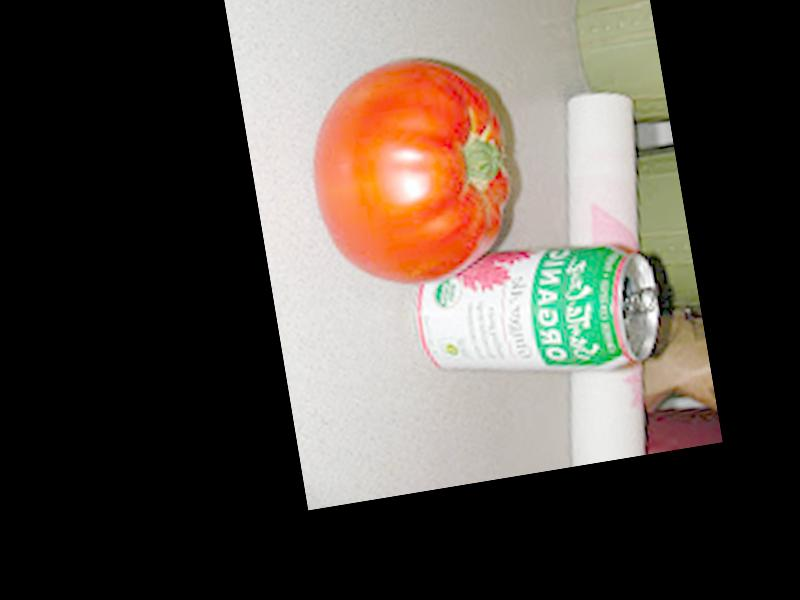Tomato: (299, 49, 522, 295)
